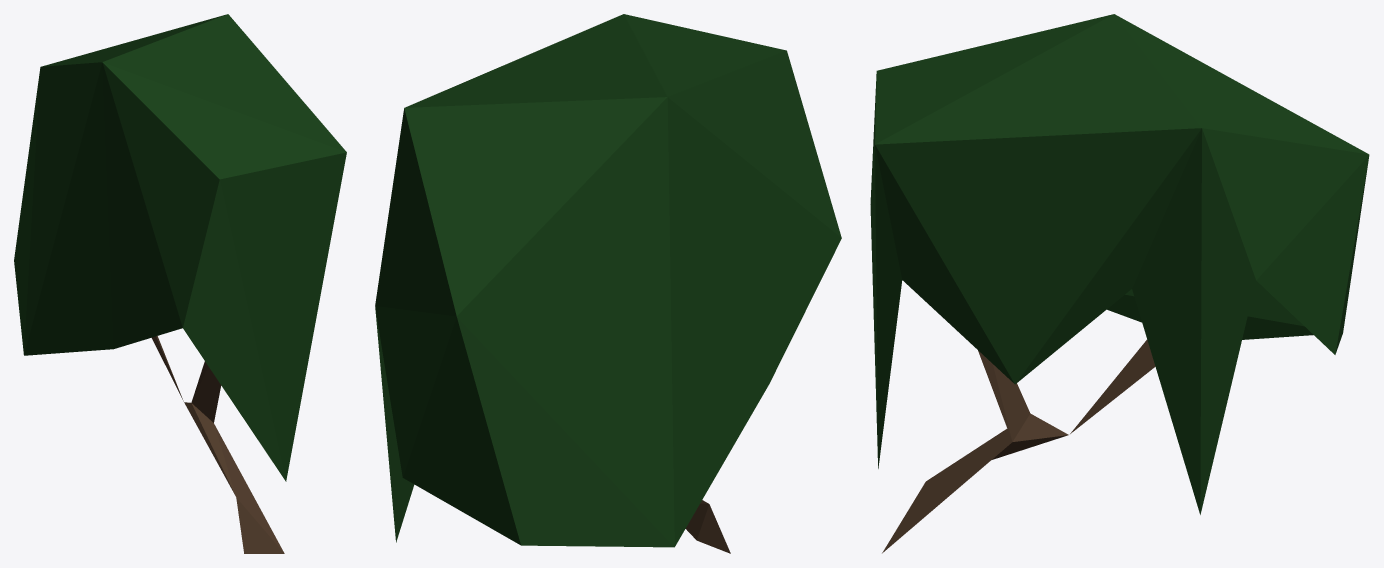
Rendered from tree_giant_lod2.glb.
The picture shows the model from 3 angles, left to right: view 1: azimuth 30°, elevation 25°; view 2: azimuth 150°, elevation 25°; view 3: azimuth 270°, elevation 25°; orthographic projection. The views are drawn at different scales.
Visible parts, largest first — view 1: tree_giant_lod2; view 2: tree_giant_lod2; view 3: tree_giant_lod2.
Boxes of the visible parts, x1,y1,x2,y2 form: tree_giant_lod2: [14, 14, 346, 553]; tree_giant_lod2: [375, 14, 841, 553]; tree_giant_lod2: [870, 14, 1369, 553].
Size of the model in its own units: 1.65 by 3.23 by 2.95.
